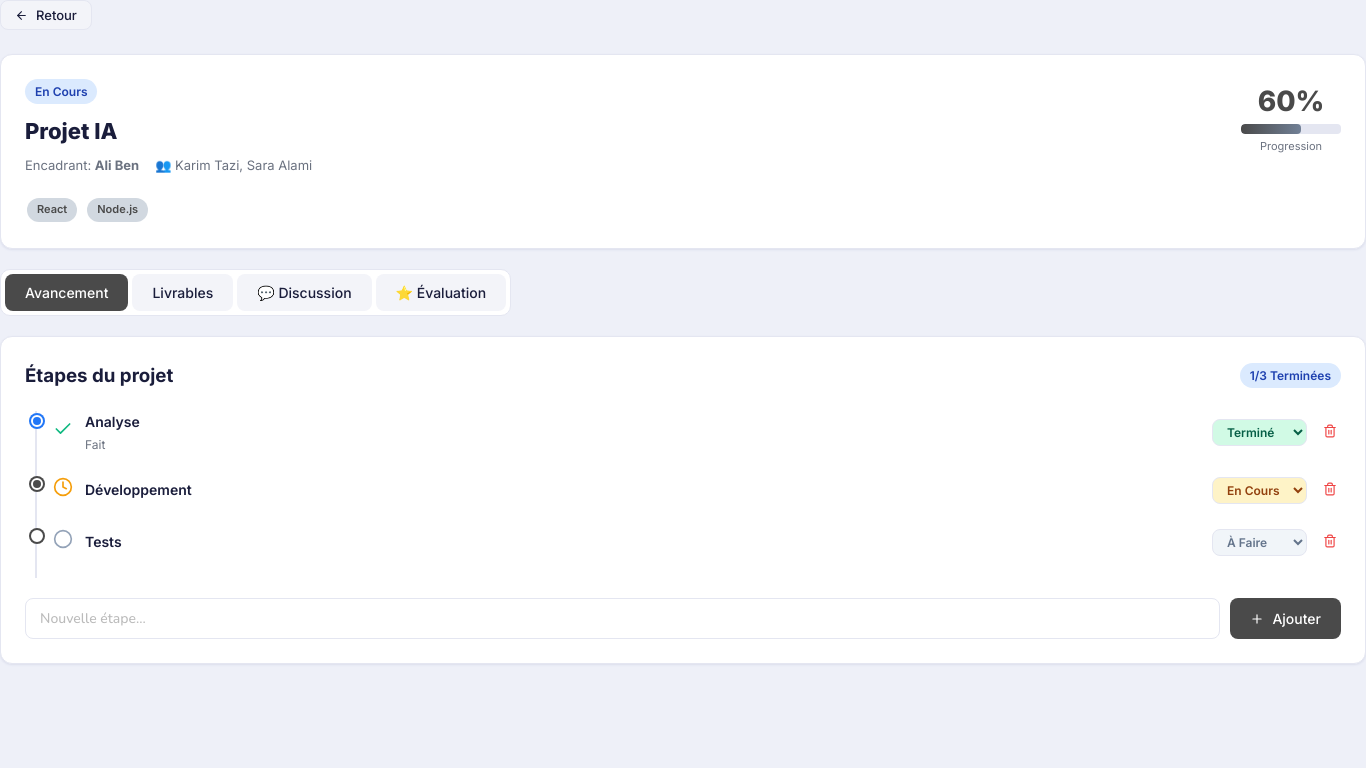
Test: ProjectDetailPage - Tabs Navigation › switches to Discussion tab and loads messages
Expected: the heading "Projet IA" is shown, [25,118,118,144]
Click the button "💬 Discussion". click: point(304, 292)
box: [237,274,372,311]
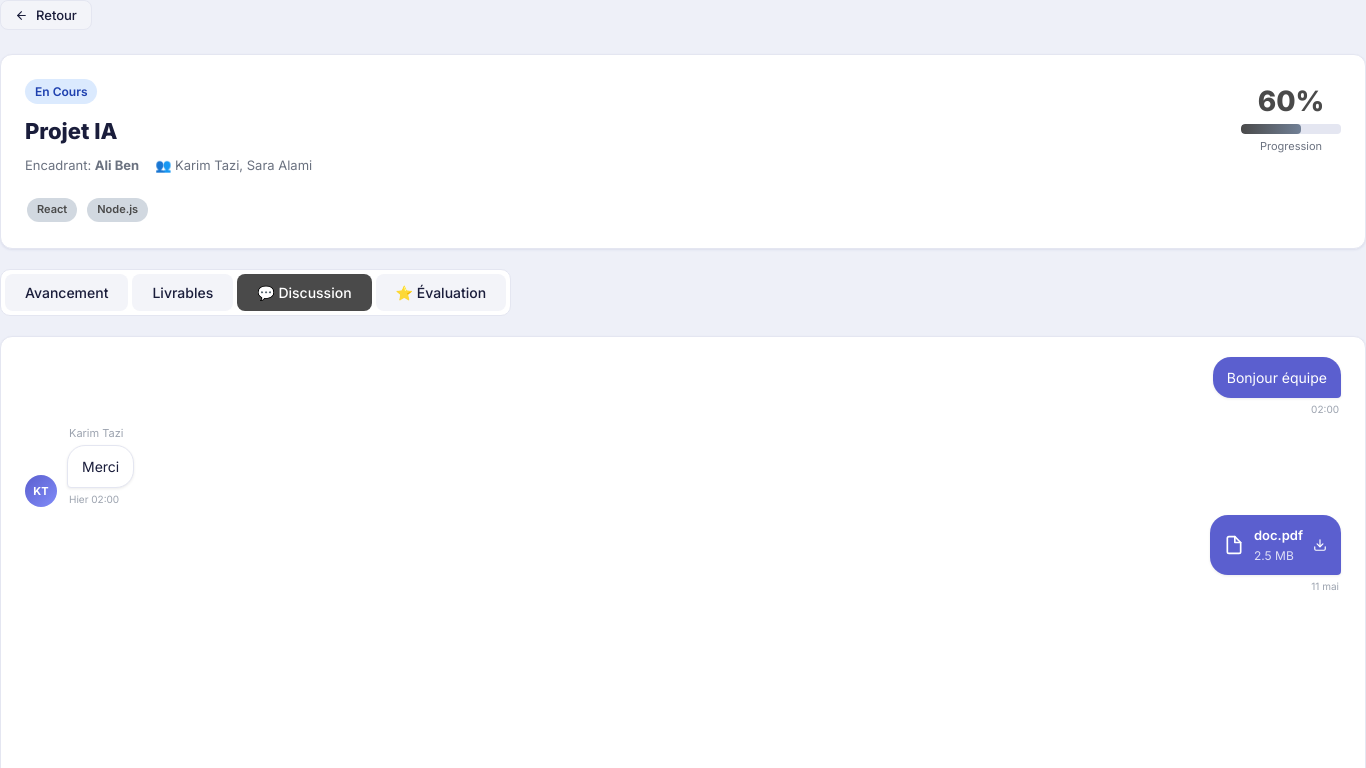
Expected: the text "Bonjour équipe" is shown, [1227,367,1327,388]
